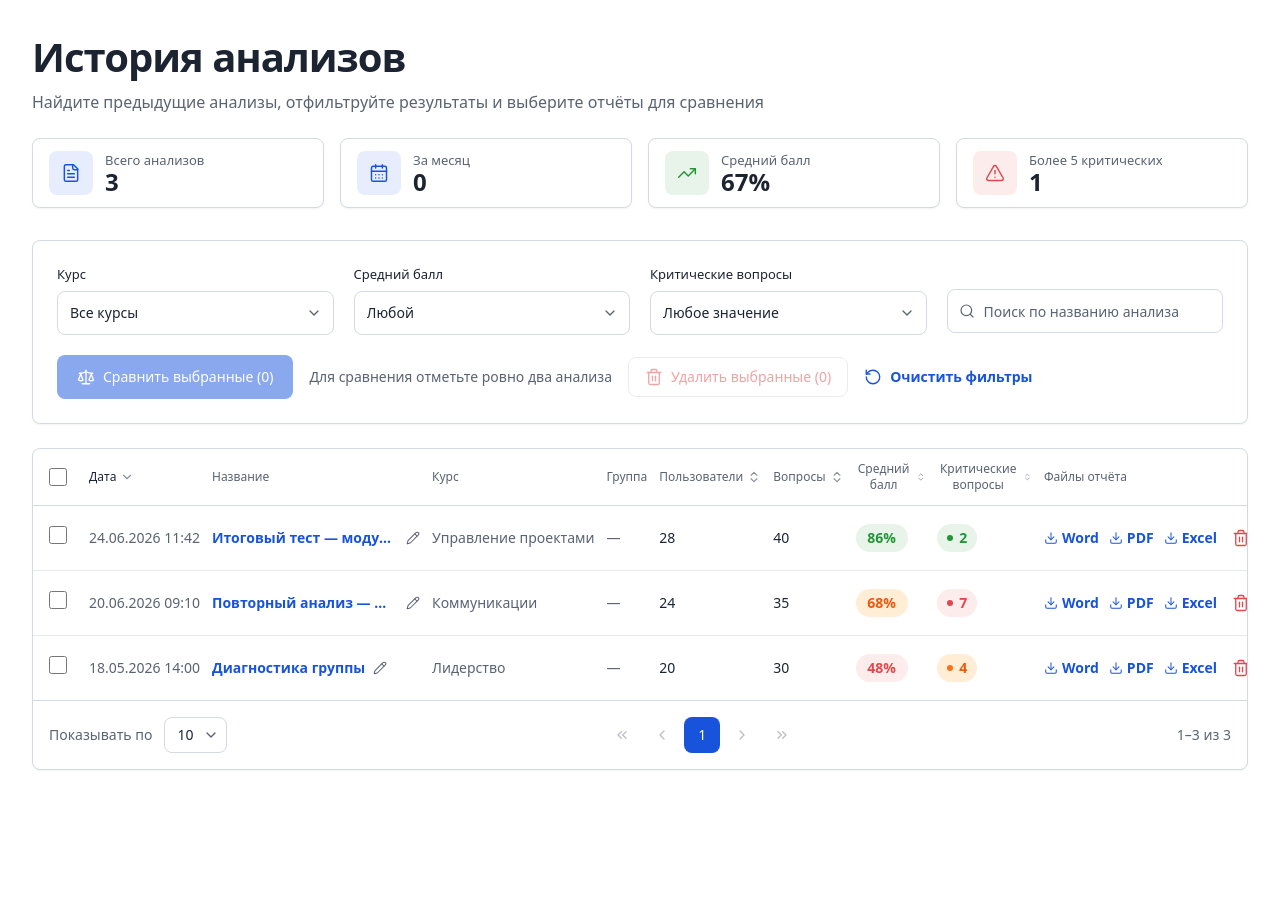
Scenario: History — open, rename, sort, delete options › the delete dialog names the analysis and can keep the related chats
The image size is (1280, 900).
Check: the link "Итоговый тест — модуль 3" is shown, box [212,528,398,548]
Click the button named "Удалить «Итоговый тест — модуль 3»" at [1241, 538], box [1227,524,1255,552]
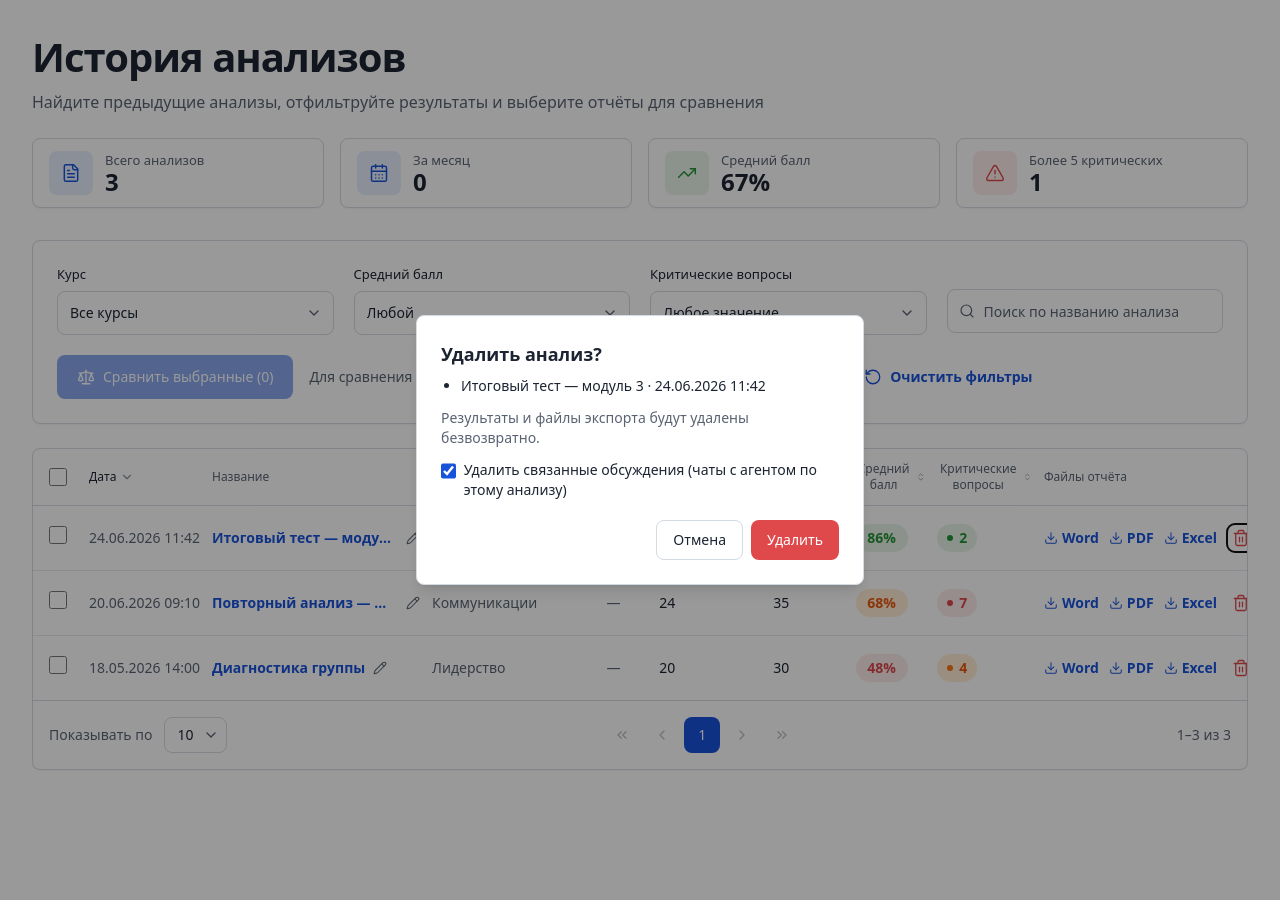
Check: the list item "Итоговый тест — модуль 3 · 24.06.2026 11:42" is shown, box [461,376,766,395]
Check: the checkbox labelled "Удалить связанные обсуждения" is checked
Click the checkbox labelled "Удалить связанные обсуждения" at [448, 471], box [441,462,456,480]
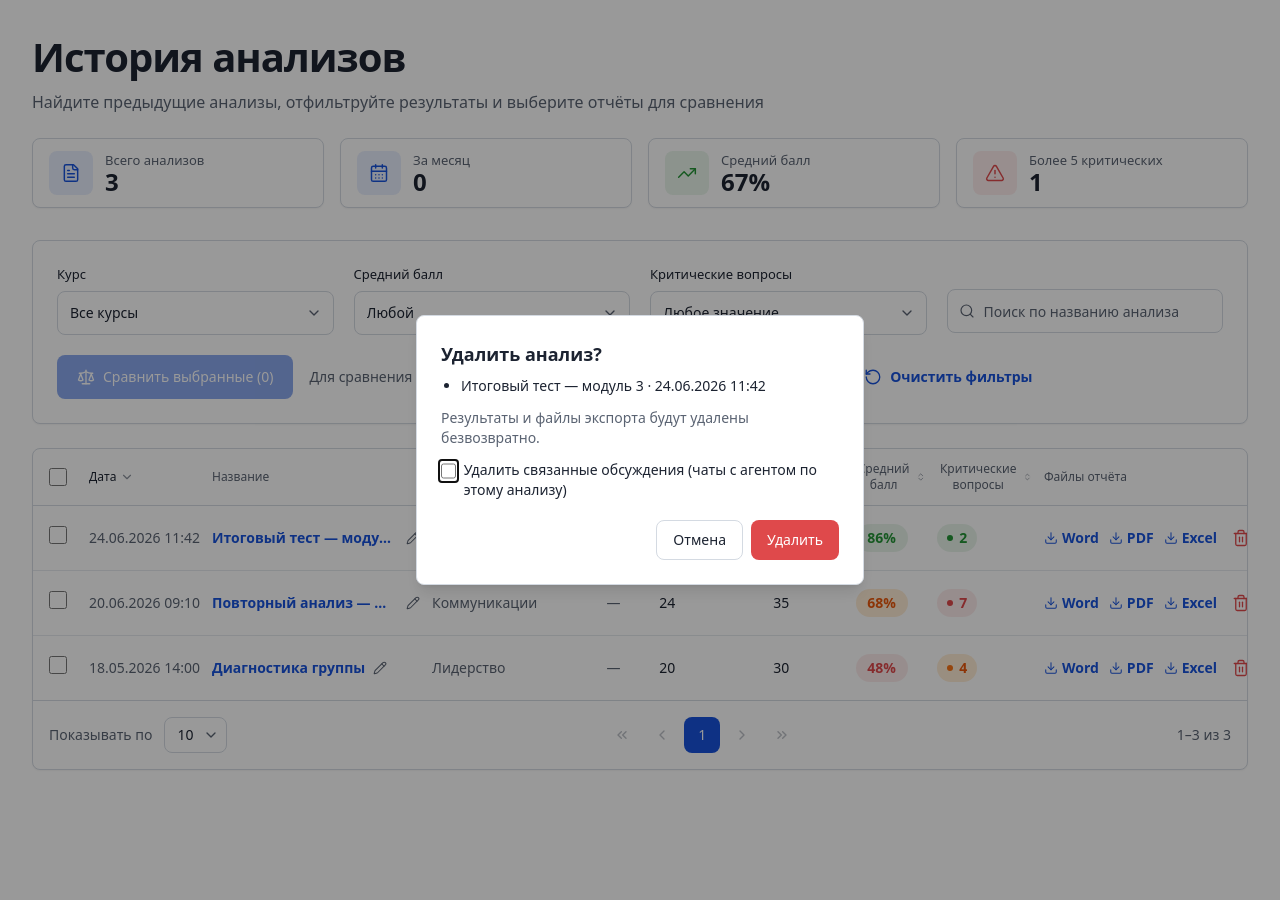
Click the button "Удалить" at [795, 540], box [751,520,839,560]
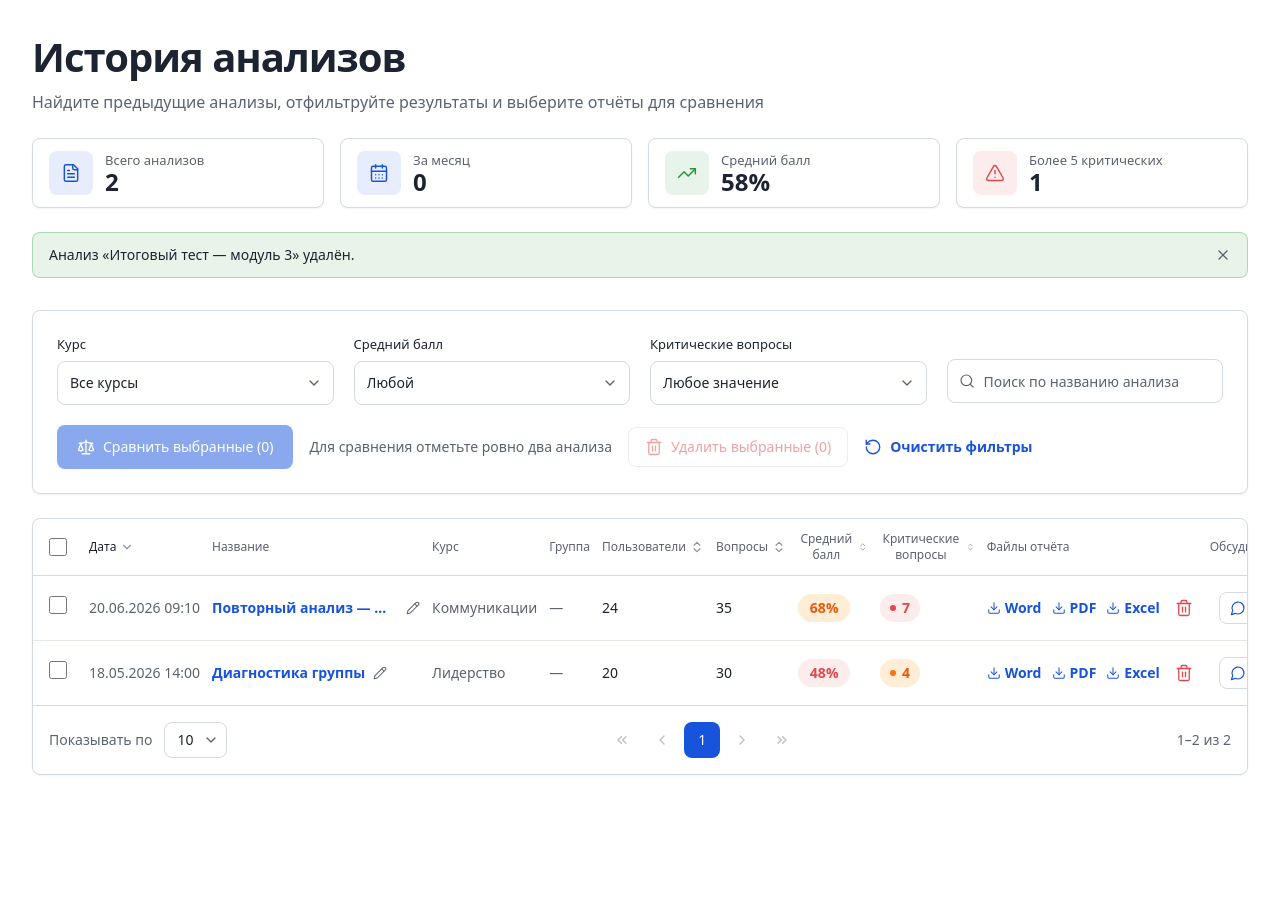
Check: the message "Анализ «Итоговый тест — модуль 3» удалён." is shown, box [32,232,1248,278]
